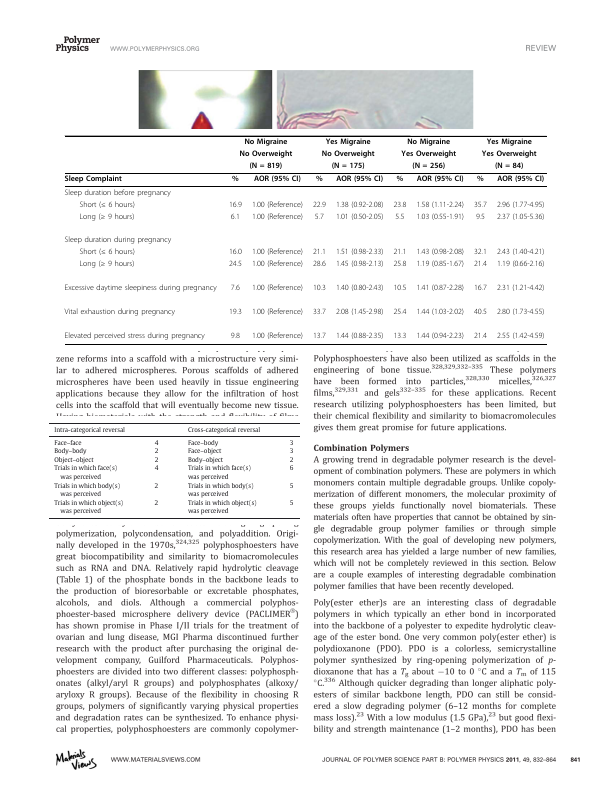borderless: (64, 134, 547, 344), (48, 421, 300, 518)
cell: (64, 284, 218, 293), (64, 332, 206, 341), (53, 499, 124, 516), (187, 499, 258, 516), (53, 481, 121, 498), (187, 481, 255, 498), (53, 464, 118, 481), (187, 464, 252, 481), (64, 188, 172, 198), (64, 236, 172, 246), (64, 308, 176, 317), (187, 426, 261, 434), (53, 426, 126, 434), (78, 200, 136, 210), (78, 248, 136, 258), (78, 212, 135, 222), (78, 260, 135, 270), (64, 175, 123, 184), (251, 200, 304, 210), (251, 212, 304, 222), (251, 248, 304, 258), (251, 260, 304, 270), (400, 150, 457, 159), (481, 150, 537, 159), (415, 200, 465, 210), (415, 212, 465, 222), (415, 248, 465, 258), (415, 260, 465, 270), (335, 200, 384, 210), (496, 200, 545, 210), (335, 212, 384, 222), (496, 212, 545, 222), (335, 248, 384, 258), (496, 248, 545, 258), (335, 260, 384, 270), (496, 260, 545, 270), (239, 150, 293, 159), (321, 150, 375, 159), (251, 284, 304, 293), (251, 308, 304, 317), (251, 332, 304, 341), (415, 284, 465, 293), (415, 308, 465, 317), (415, 332, 465, 341), (253, 175, 302, 184), (335, 175, 384, 184), (496, 175, 545, 184), (335, 284, 384, 293), (496, 284, 545, 293), (335, 308, 384, 317), (496, 308, 545, 317), (335, 332, 384, 341), (496, 332, 545, 341), (416, 175, 464, 184), (325, 138, 372, 147), (486, 138, 533, 147), (243, 138, 288, 147), (406, 138, 451, 147), (53, 456, 95, 464), (248, 162, 283, 171), (411, 162, 446, 171), (53, 447, 88, 456), (187, 447, 222, 456), (331, 162, 365, 171), (187, 456, 224, 464), (494, 162, 524, 171), (187, 439, 219, 447), (53, 439, 83, 447), (228, 200, 243, 210), (312, 200, 327, 210), (392, 200, 407, 210), (473, 200, 488, 210), (228, 248, 243, 258), (312, 248, 327, 258), (392, 248, 407, 258), (473, 248, 488, 258), (228, 260, 243, 270), (312, 260, 327, 270), (392, 260, 407, 270), (473, 260, 488, 270), (312, 284, 327, 293), (392, 284, 407, 293), (473, 284, 488, 293), (228, 308, 243, 317), (312, 308, 327, 317), (392, 308, 407, 317), (473, 308, 488, 317), (312, 332, 327, 341), (392, 332, 407, 341), (473, 332, 488, 341), (230, 212, 241, 222), (314, 212, 325, 222), (394, 212, 405, 222), (475, 212, 486, 222), (230, 284, 241, 293), (230, 332, 241, 341), (231, 175, 240, 184), (315, 175, 324, 184), (395, 175, 404, 184), (476, 175, 485, 184), (289, 447, 295, 456), (289, 464, 295, 473), (289, 481, 295, 490), (289, 439, 295, 447), (289, 456, 295, 464), (289, 499, 295, 507), (154, 447, 159, 456), (154, 464, 159, 473), (154, 481, 159, 490), (154, 439, 159, 447), (154, 456, 159, 464), (154, 499, 159, 507)
